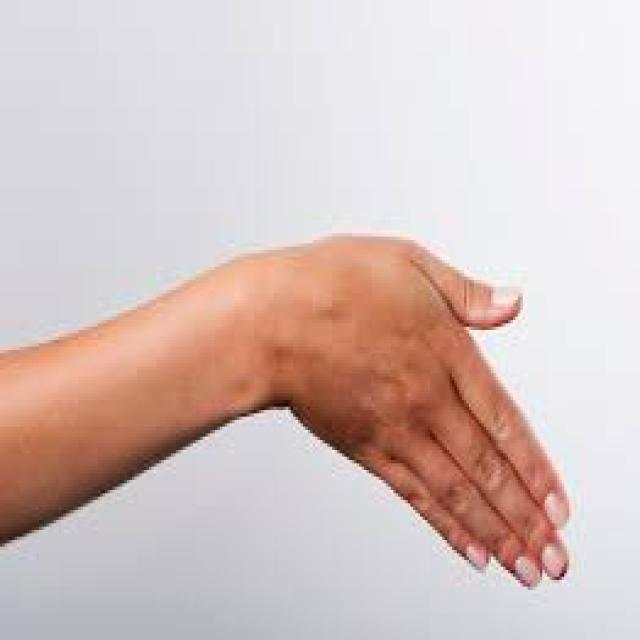hand: (248, 158, 620, 610)
